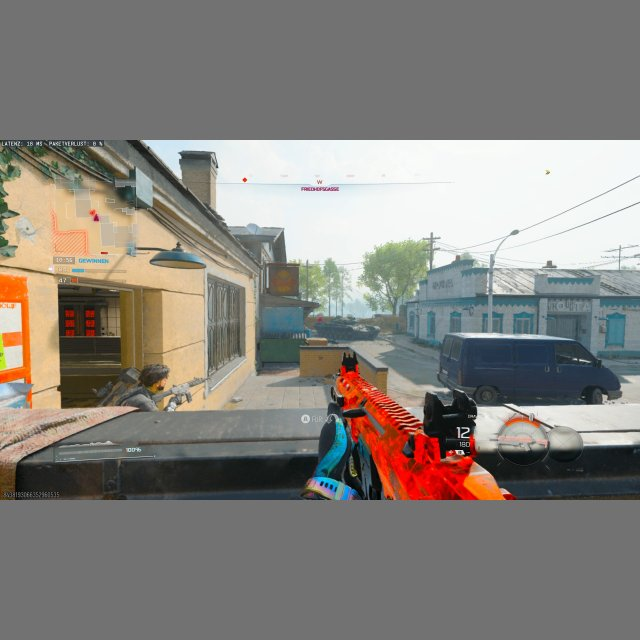head: (139, 364, 169, 392), (340, 349, 359, 374)
